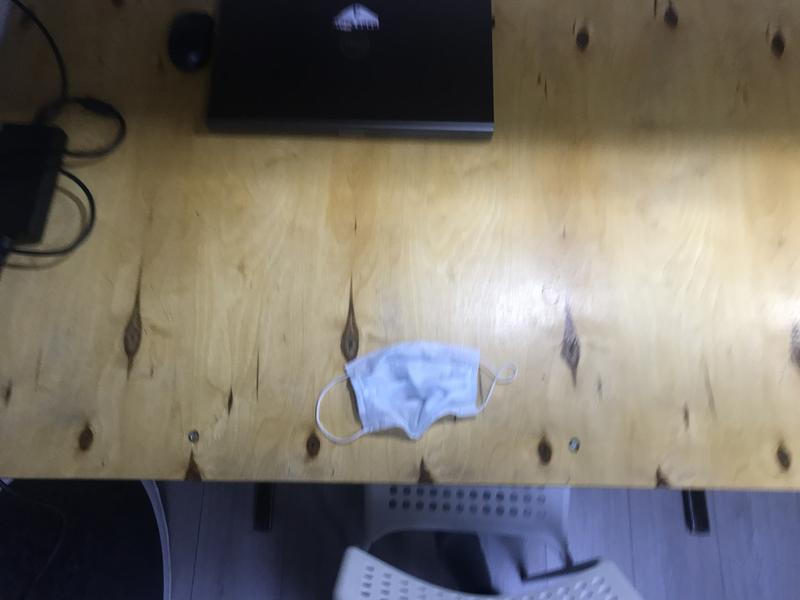medical_mask: (315, 342, 517, 441)
